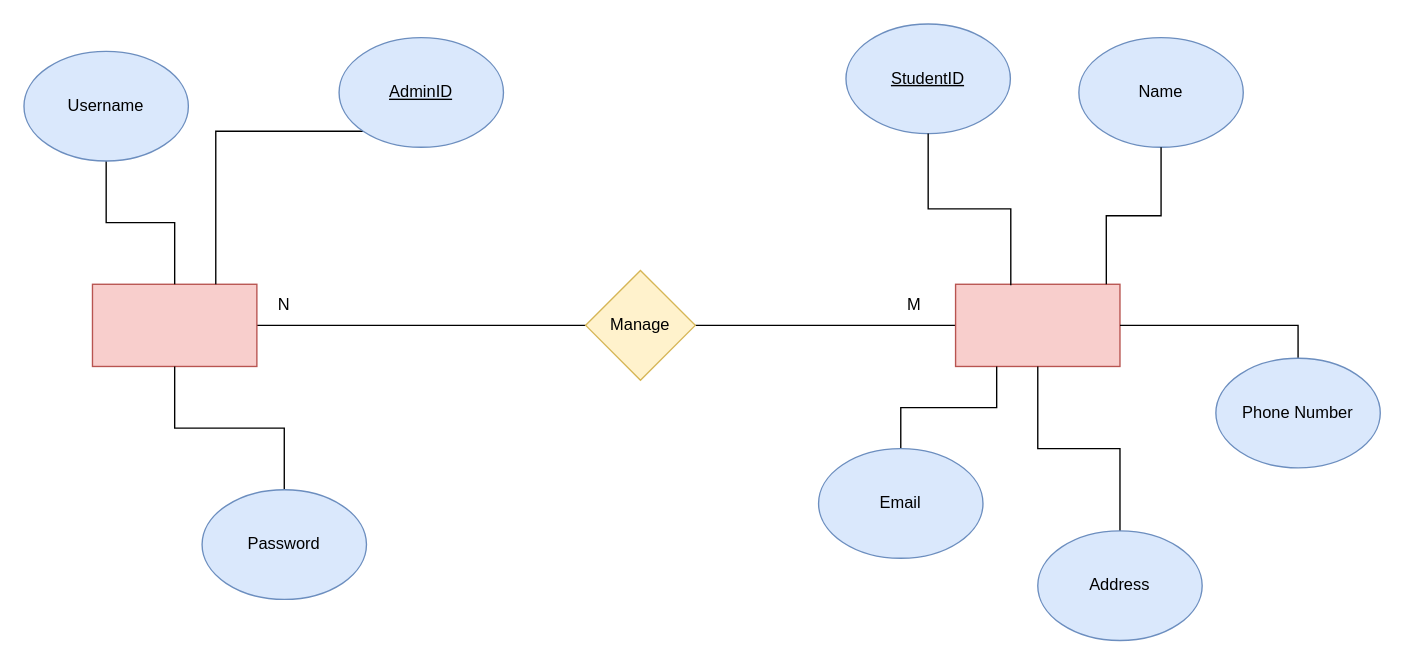
The diagram is 1404 pixels wide and 664 high, and some of its shapes have lost their labels. The centre of each missing label's shape, as x and y in pixels:
Admin: (174,324)
Student: (1037,324)
